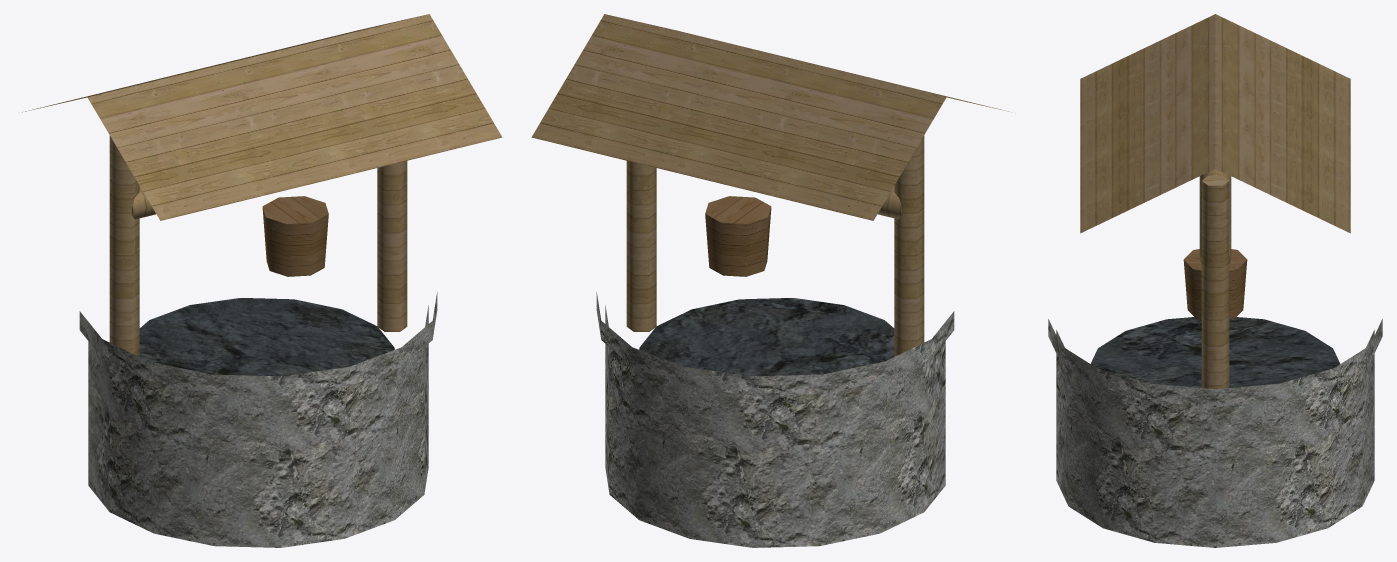
The model's file is well.glb.
3 renders of one model, left to right at view 1: azimuth 30°, elevation 25°; view 2: azimuth 150°, elevation 25°; view 3: azimuth 270°, elevation 25°, orthographic. The views are drawn at different scales.
Visible parts, largest first — view 1: prop; view 2: prop; view 3: prop.
Part boxes in pixels (x1,y1,x2,y2): prop: (22,14,502,547); prop: (531,14,1011,547); prop: (1048,14,1382,547).
Size of the model in its own units: 0.92 by 1.08 by 0.84.
2 materials, 2 textured.
